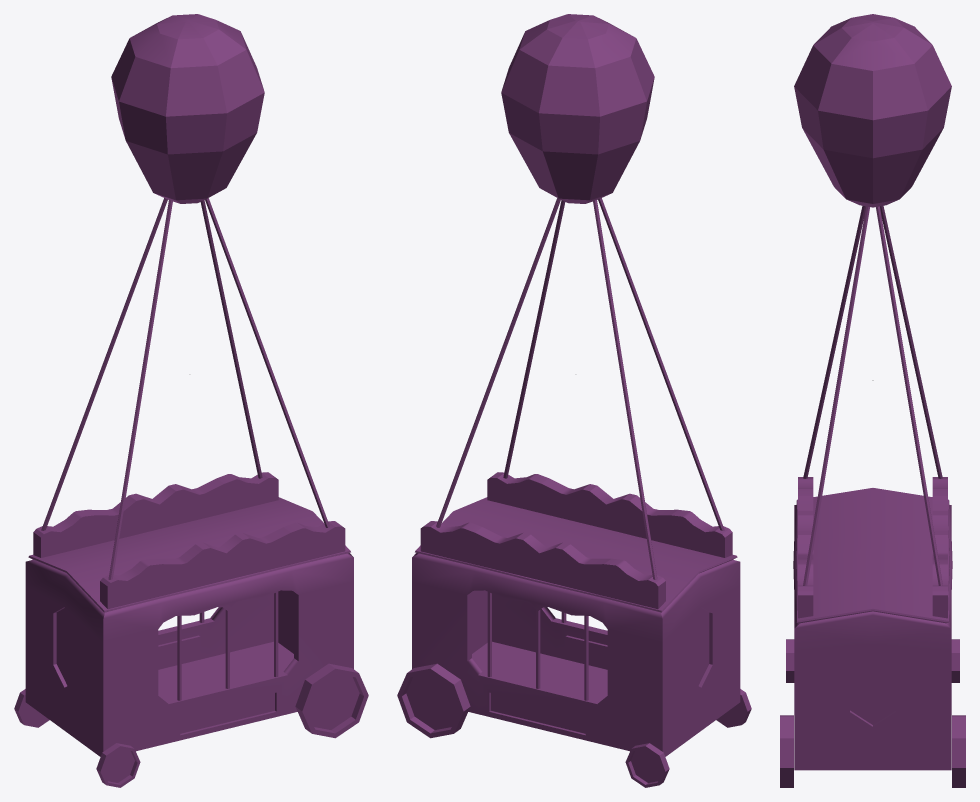
File: Cart_With_Balloon.fbx
3 renders of one model, left to right at view 1: azimuth 30°, elevation 25°; view 2: azimuth 150°, elevation 25°; view 3: azimuth 270°, elevation 25°, orthographic.
Parts seen in each view (by area): view 1: polySurface32; view 2: polySurface32; view 3: polySurface32.
Part boxes in pixels (x1,y1,x2,y2): polySurface32: [14, 14, 368, 787]; polySurface32: [397, 14, 751, 787]; polySurface32: [780, 14, 965, 787].
Bounding box in the file's own units: 525 × 1339 × 316.
